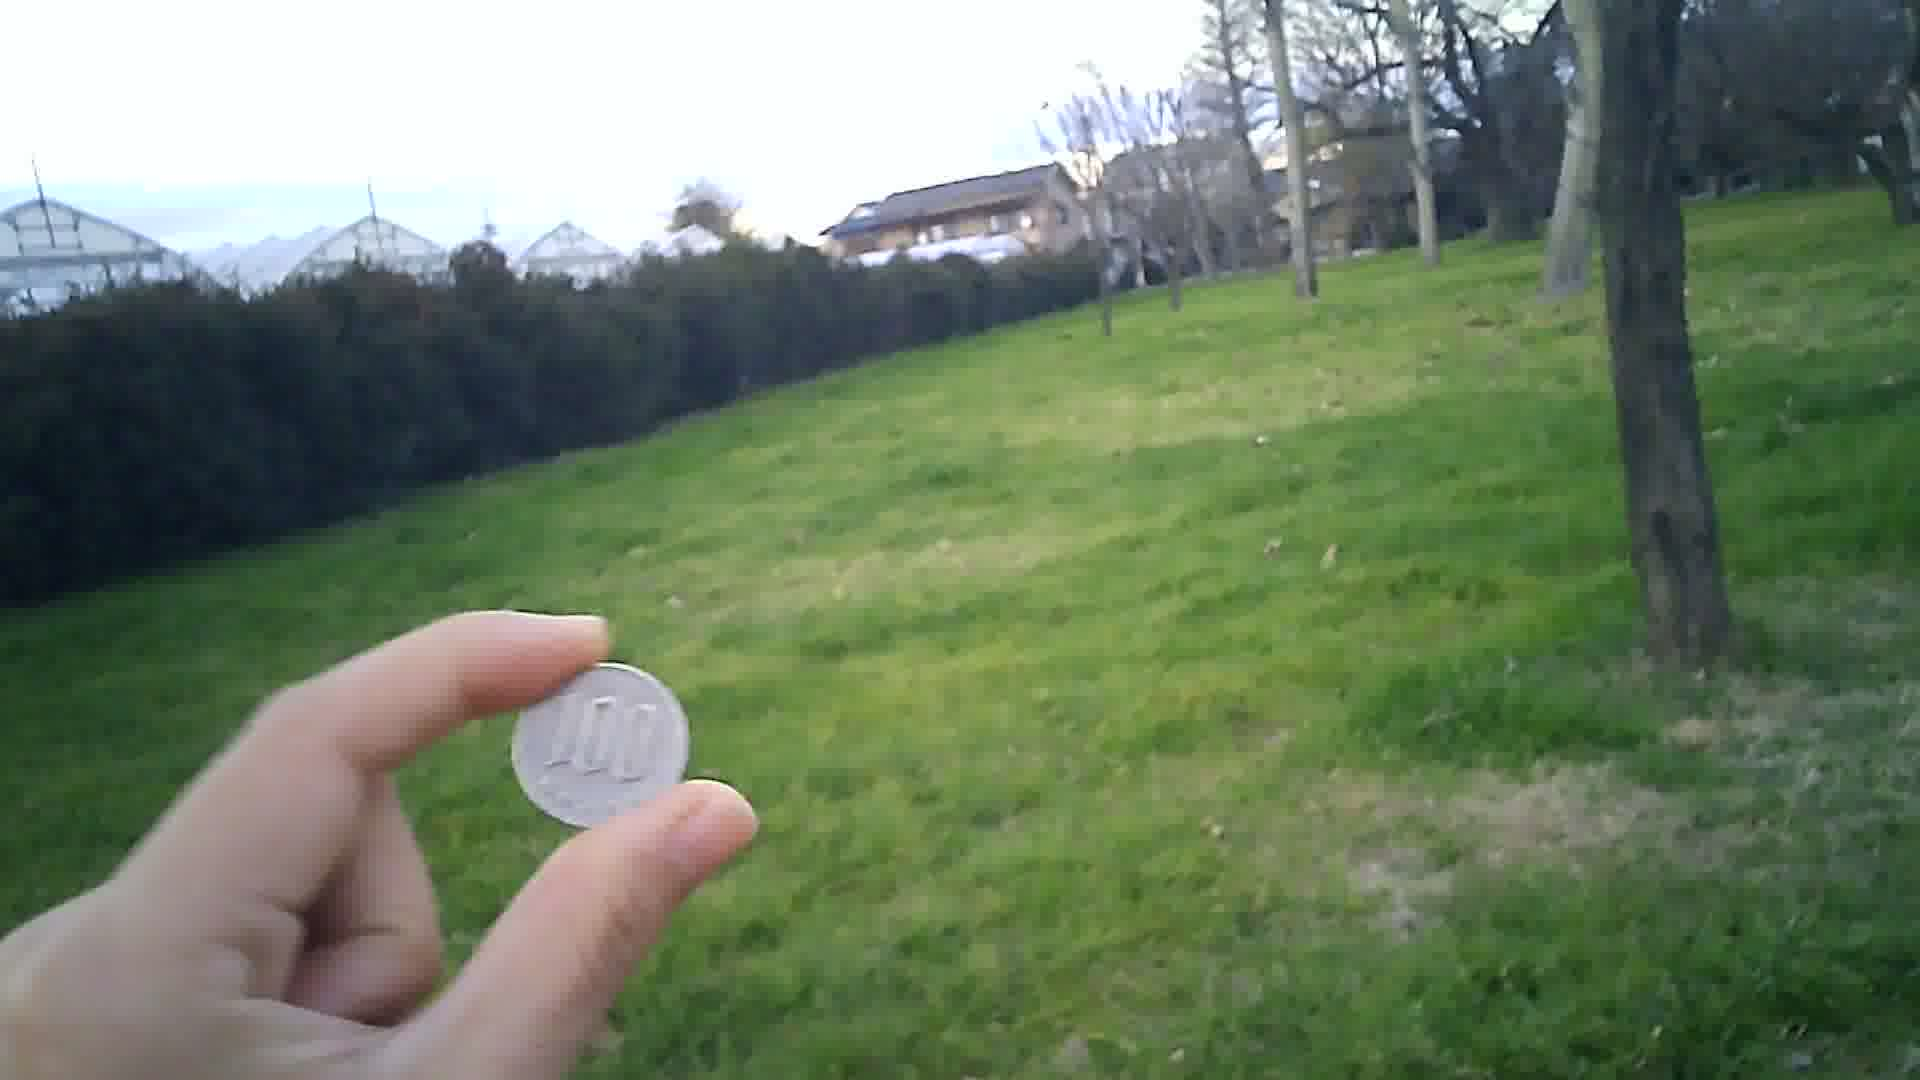100 Yen: (505, 650, 705, 833)
